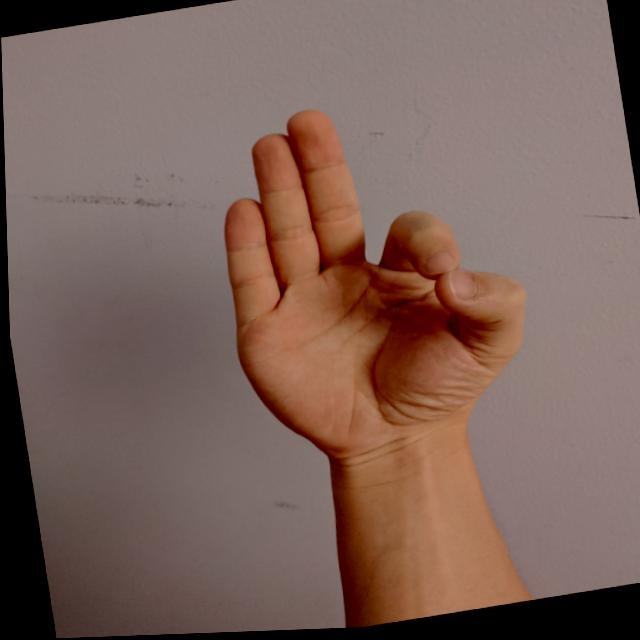F: (193, 74, 555, 484)
